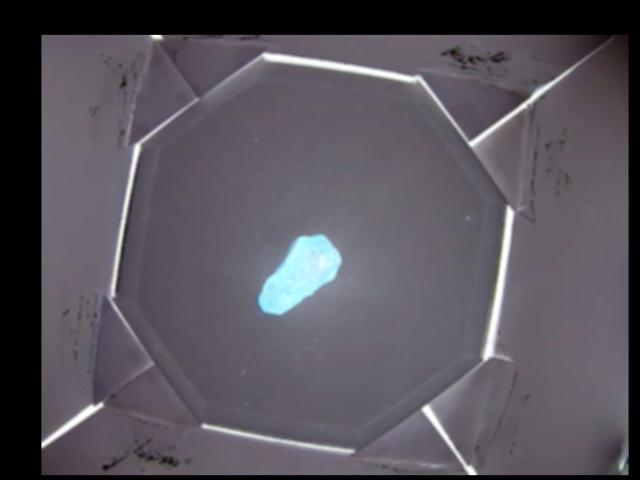Brisk: (262, 236, 337, 315)
